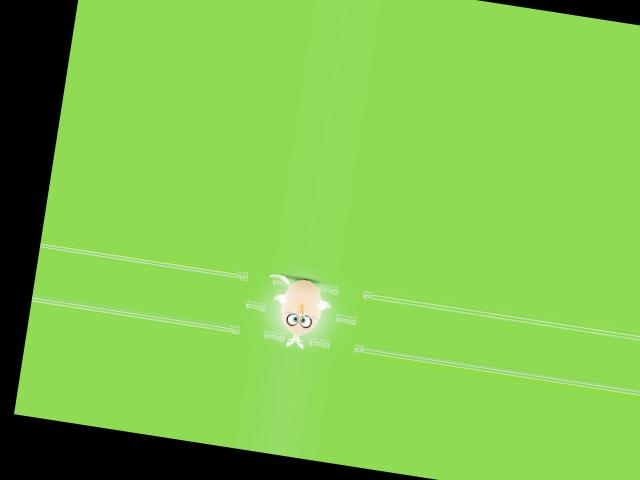egg: (276, 275, 324, 337)
